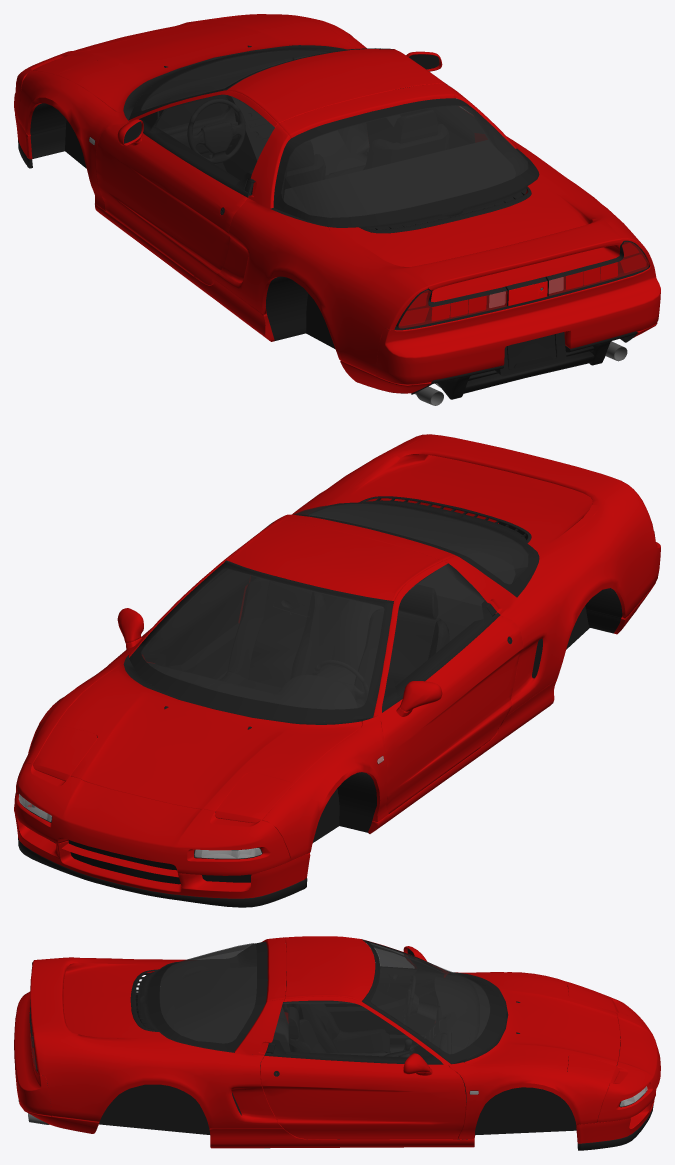
3 views of the same model, one above another, from view 1: azimuth 30°, elevation 25°; view 2: azimuth 150°, elevation 25°; view 3: azimuth 270°, elevation 25° (orthographic). The views are drawn at different scales.
Parts seen in each view (by area): view 1: Object_12, Object_10, Object_8, Object_22, Object_18, Object_20, Object_14; view 2: Object_12, Object_10, Object_8, Object_22, Object_16; view 3: Object_12, Object_10, Object_8, Object_22.
Boxes of the visible parts, box(x1,y1,x2,y2) form: Object_12: box(14, 14, 660, 393); Object_10: box(18, 45, 649, 399); Object_8: box(141, 48, 528, 217); Object_22: box(141, 50, 527, 227); Object_18: box(398, 242, 648, 327); Object_20: box(414, 287, 627, 405); Object_14: box(508, 281, 547, 305); Object_12: box(14, 434, 660, 898); Object_10: box(18, 496, 622, 907); Object_8: box(141, 503, 528, 709); Object_22: box(142, 504, 527, 724); Object_16: box(18, 756, 383, 858); Object_12: box(14, 936, 660, 1148); Object_10: box(18, 939, 653, 1150); Object_8: box(159, 943, 490, 1060); Object_22: box(160, 944, 489, 1102).
Size of the model in its own units: 1.93 by 1.04 by 4.41.
